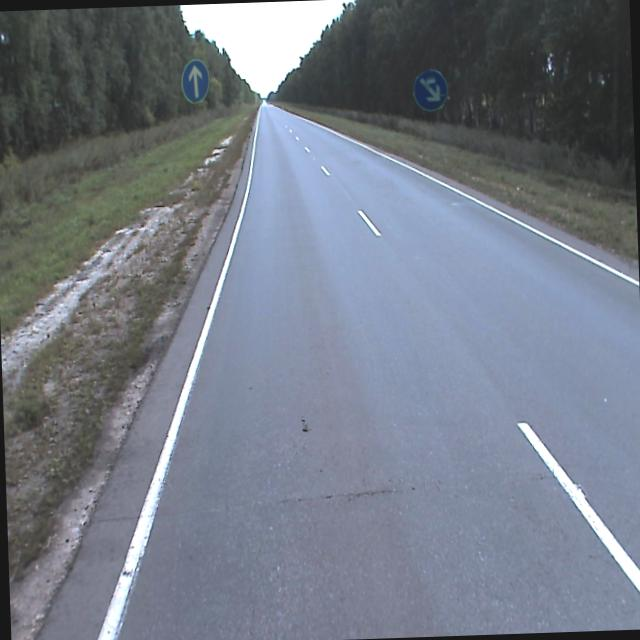road: (37, 104, 640, 640)
